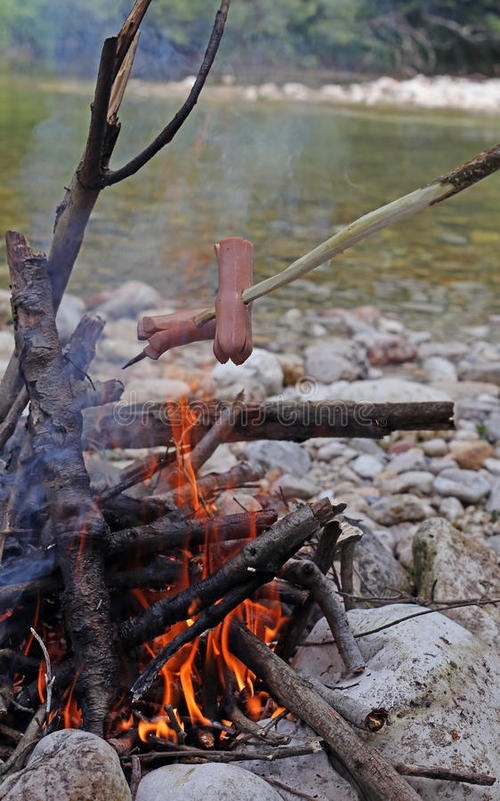fire: (136, 368, 292, 737)
